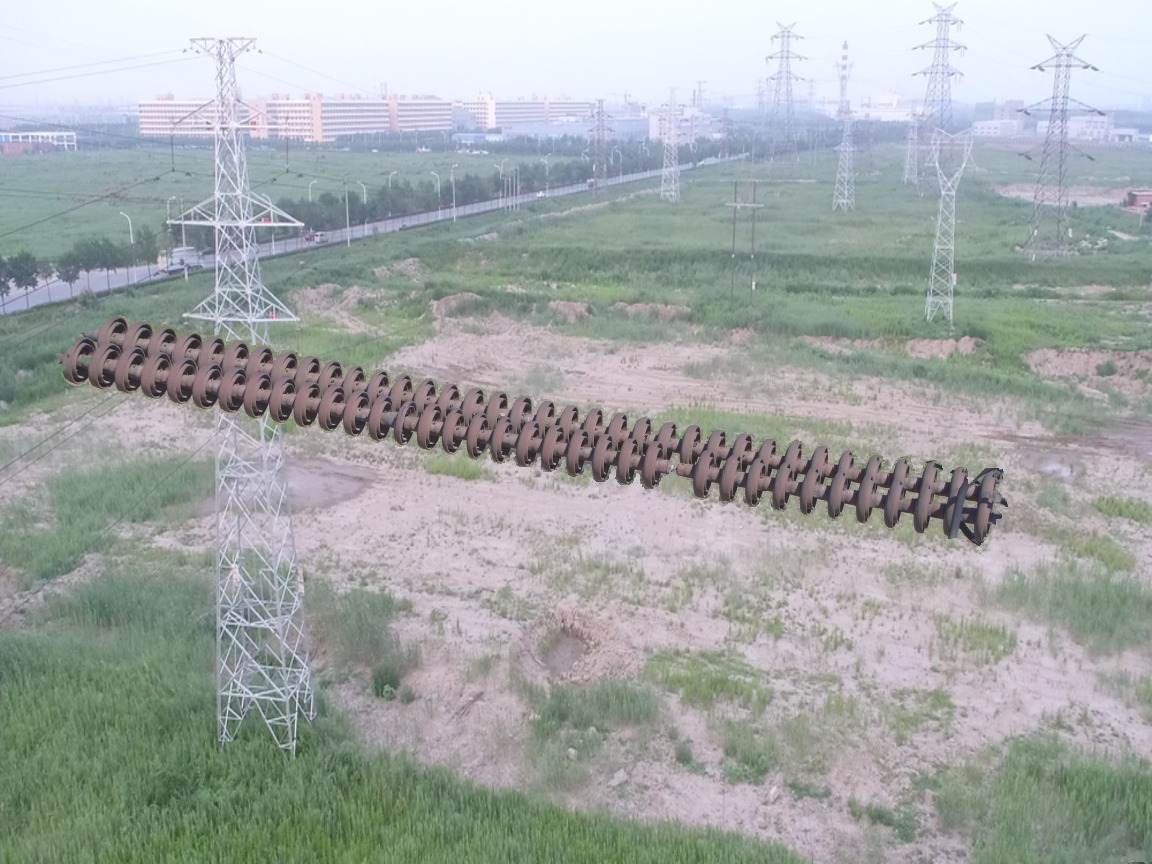defect: (634, 440, 718, 497)
